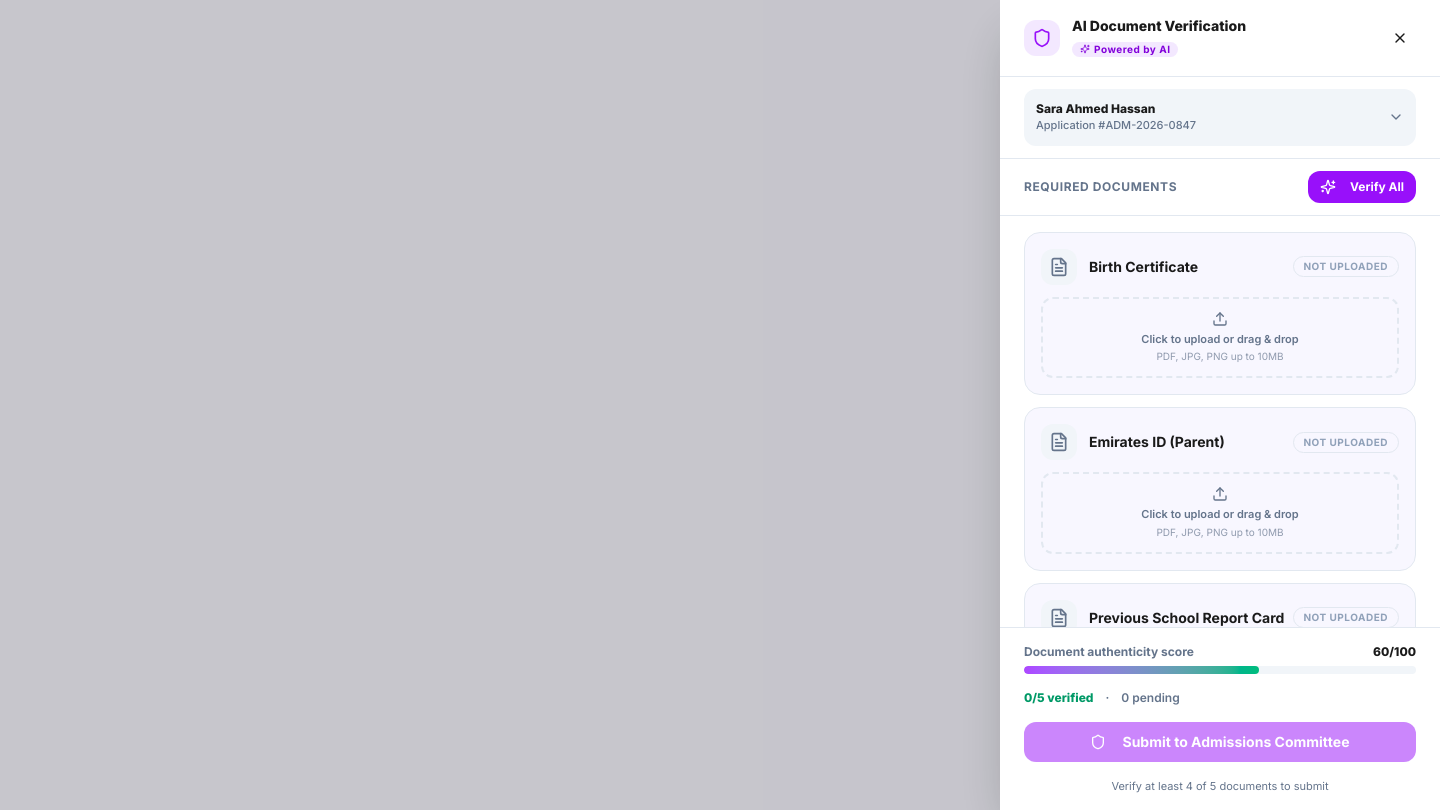
Test: AIDocumentVerification › verifying a document shows extracted data on success (Math.random forced high)
Click the text "Click to upload or drag & drop" below "Birth Certificate" at (1220, 338), box [1141, 332, 1299, 346]
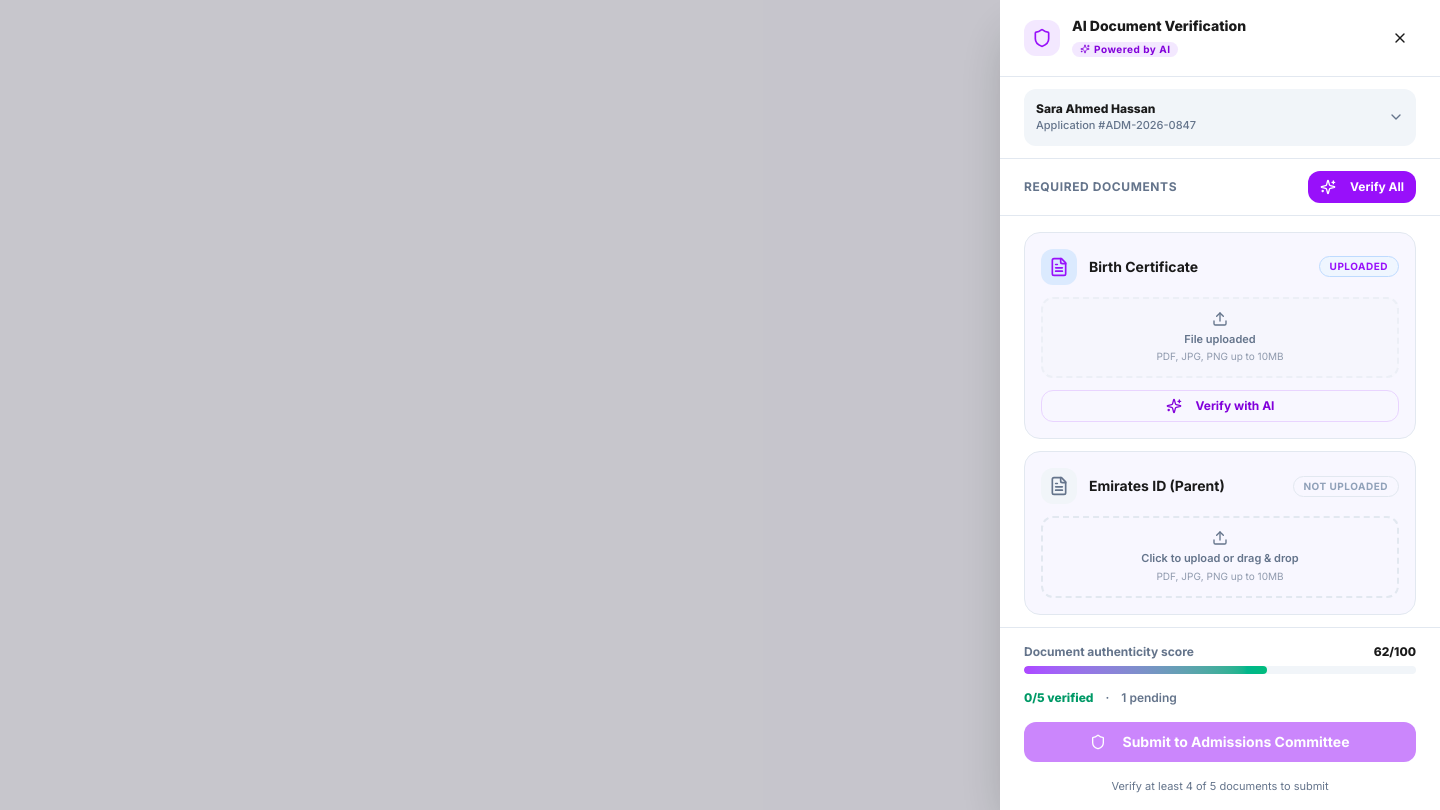
Click the button "Verify with AI" at (1220, 406), box [1041, 390, 1399, 422]
Wait 2000 ms
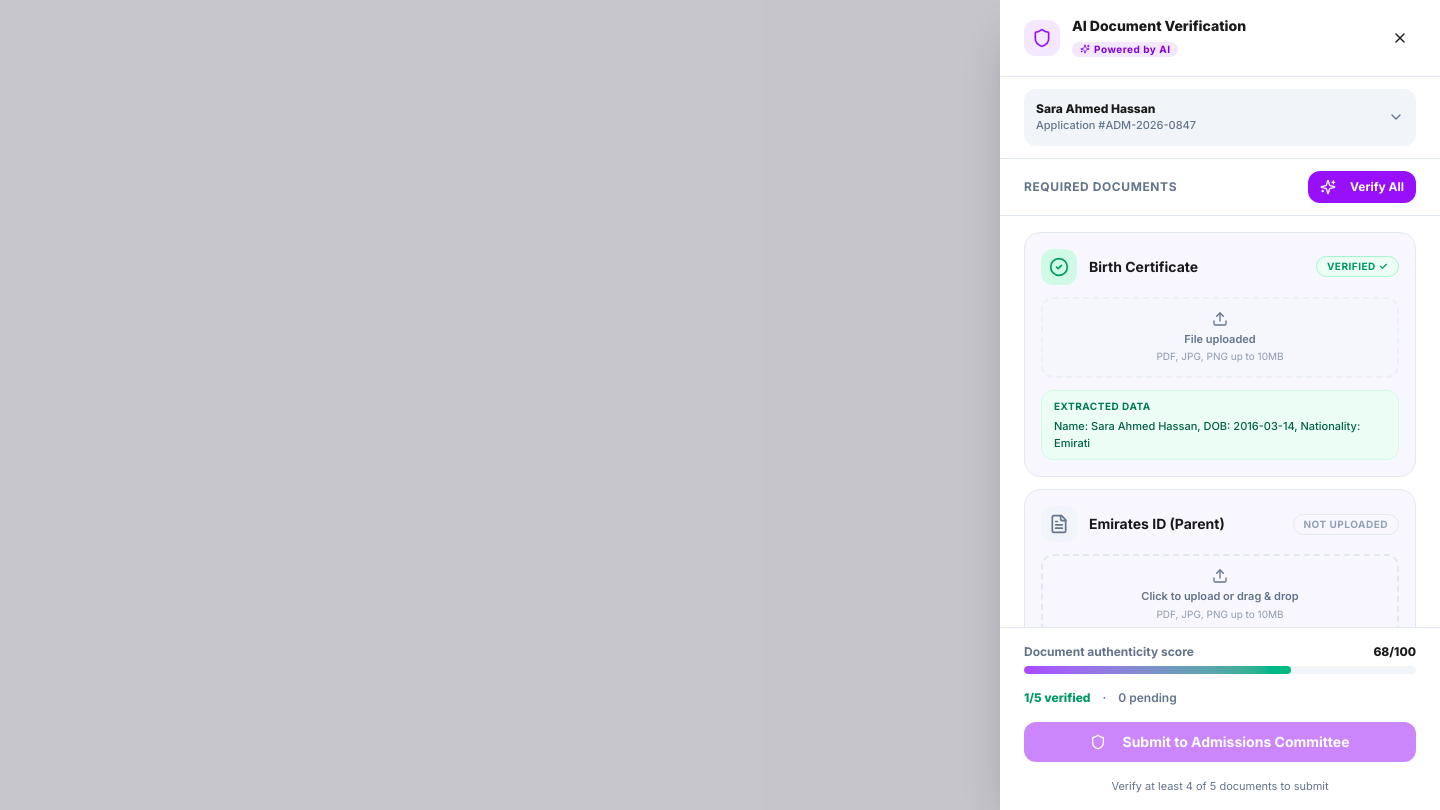
expect the text "Verified ✓" is shown: met, box [1316, 256, 1399, 277]
expect the text "Name: Sara Ahmed Hassan" is shown: met, box [1054, 419, 1360, 450]
